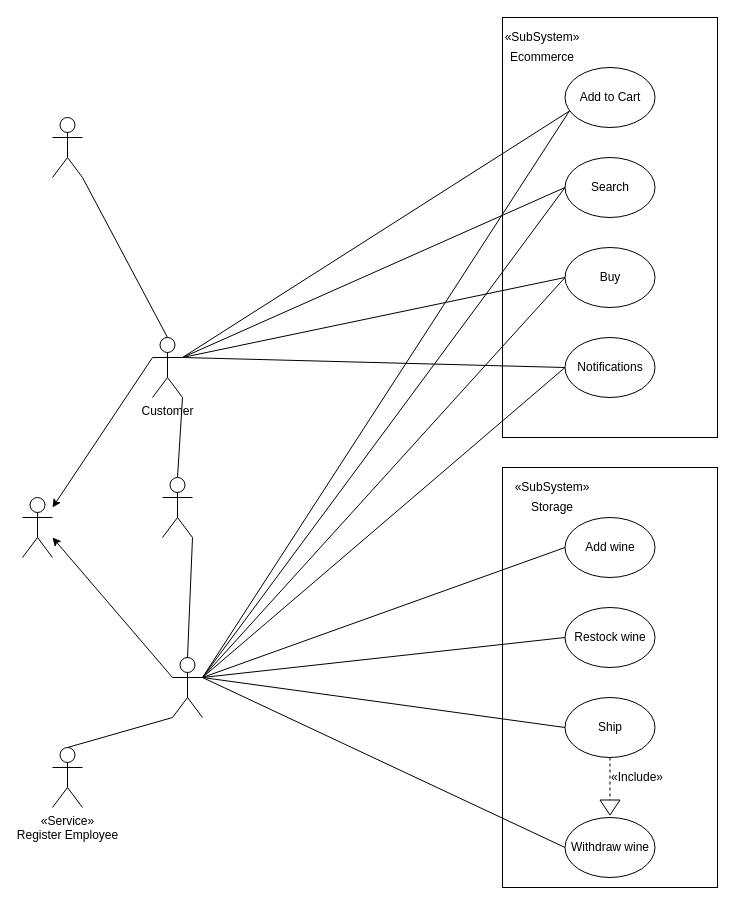
The diagram is 735 pixels wide and 905 high, and some of its shapes have lost their labels. Here are the shapes that lost their labels. From the top down, the centre of each, then its label:
[67,147]: «Service» Register Customer
[37,527]: People
[177,507]: «Service» Authentication
[187,687]: Employee
